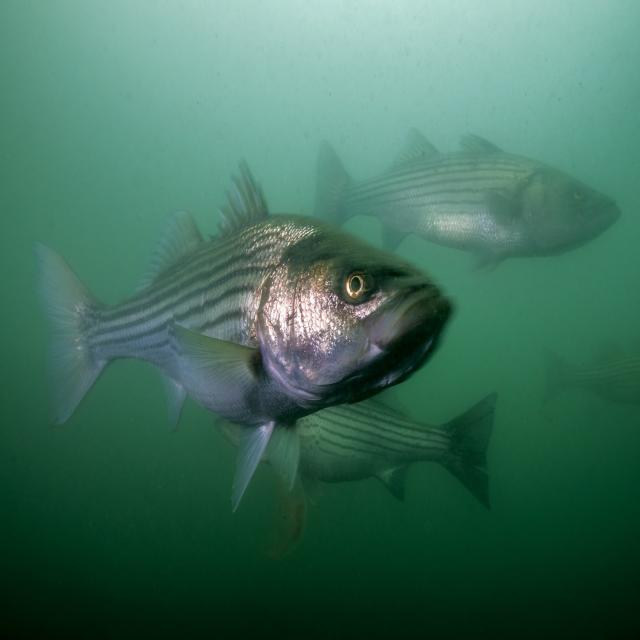Bass - Striped: (36, 166, 452, 509), (315, 131, 620, 261), (263, 394, 496, 558), (265, 394, 496, 508)
